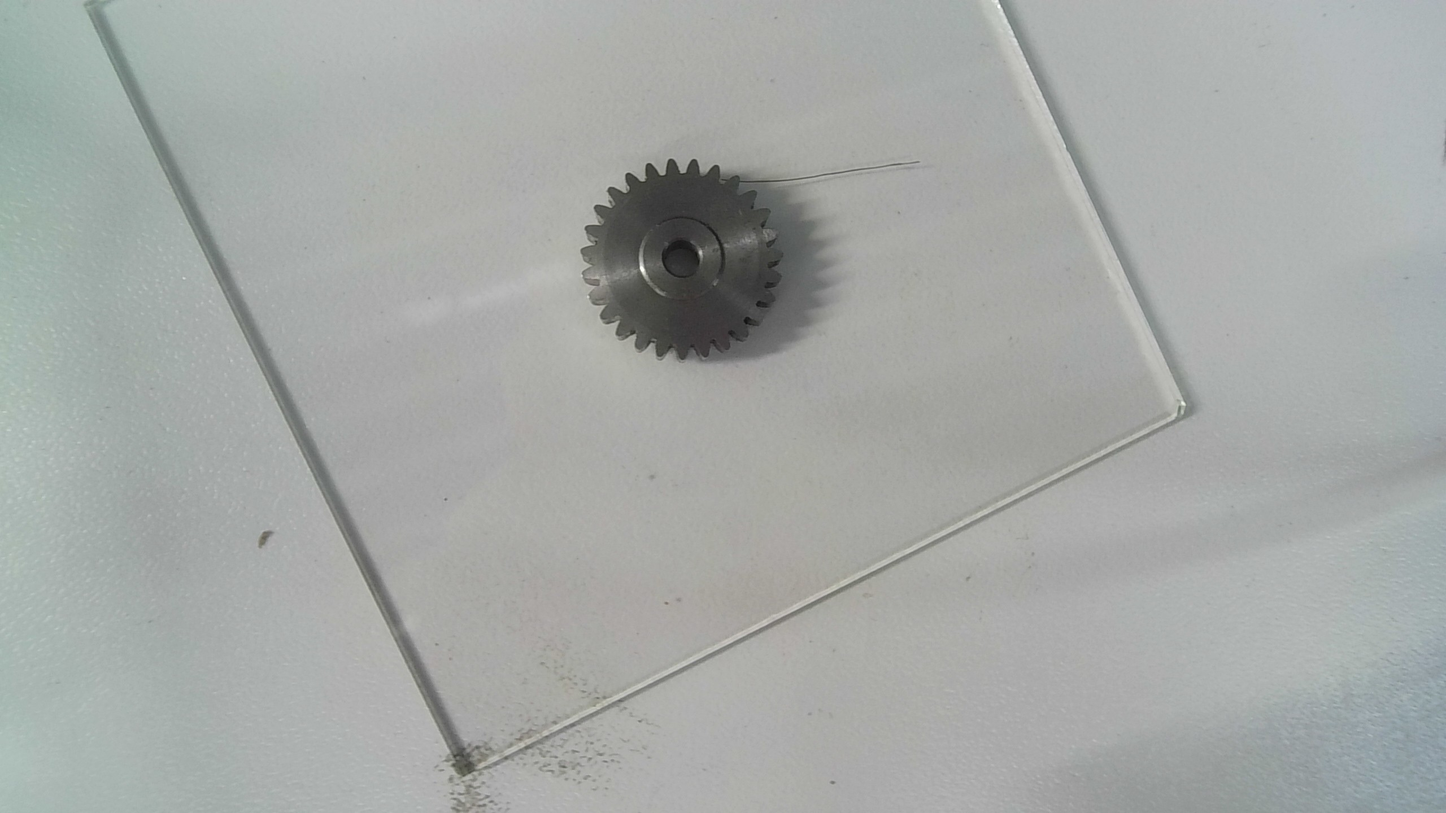gear: (578, 156, 786, 364)
